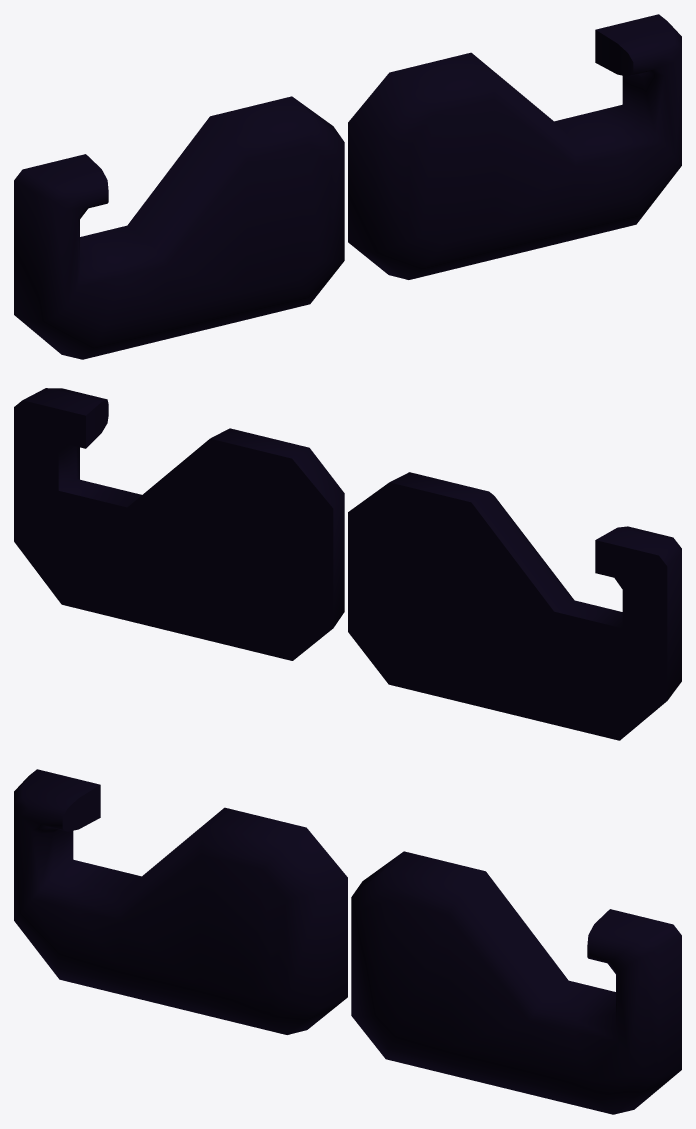
Rendered from Mustache.fbx.
3 views of the same model, one above another, from view 1: azimuth 30°, elevation 25°; view 2: azimuth 150°, elevation 25°; view 3: azimuth 330°, elevation 25° (orthographic).
Visible parts, largest first — view 1: Mustache; view 2: Mustache; view 3: Mustache.
Boxes of the visible parts, x1=… form: Mustache: x1=14, y1=14, x2=681, y2=359; Mustache: x1=14, y1=388, x2=681, y2=740; Mustache: x1=14, y1=769, x2=681, y2=1114.
Size of the model in its own units: 39.81 by 11.78 by 3.2.
